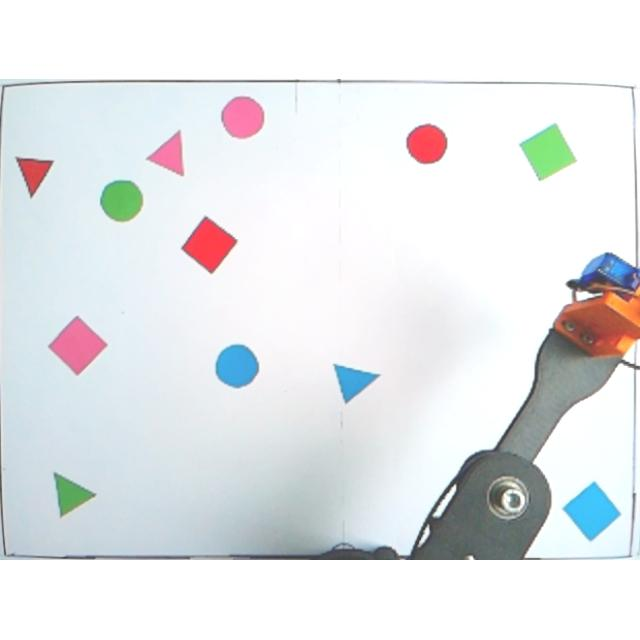blueCircle: (210, 344, 262, 392)
blueSquare: (560, 482, 622, 544)
blueTriangle: (331, 360, 384, 408)
greenCircle: (96, 180, 144, 228)
greenSquare: (517, 124, 579, 184)
greenTriangle: (51, 468, 99, 520)
pinkCircle: (220, 95, 266, 142)
pinkSquare: (46, 314, 108, 380)
redCircle: (402, 123, 450, 167)
redSquare: (178, 216, 242, 276)
redTriangle: (14, 156, 54, 200)
